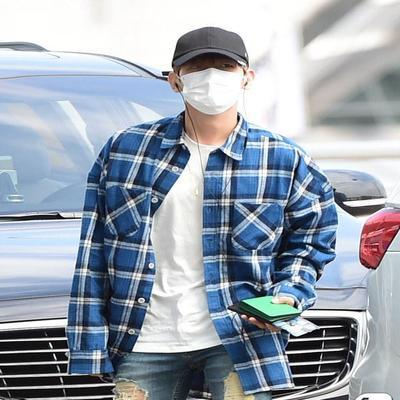Face_Mask_Found: (177, 66, 247, 118)
